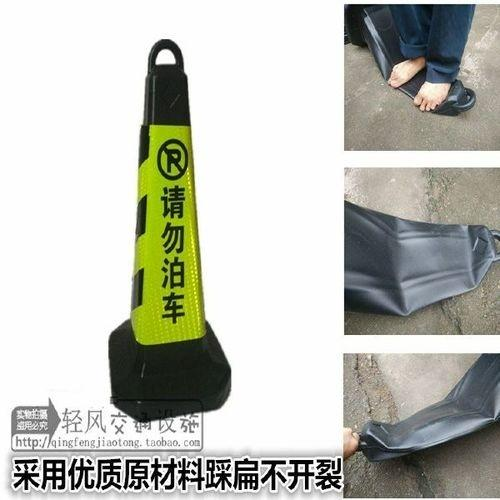cone_barrel: (103, 72, 235, 419)
